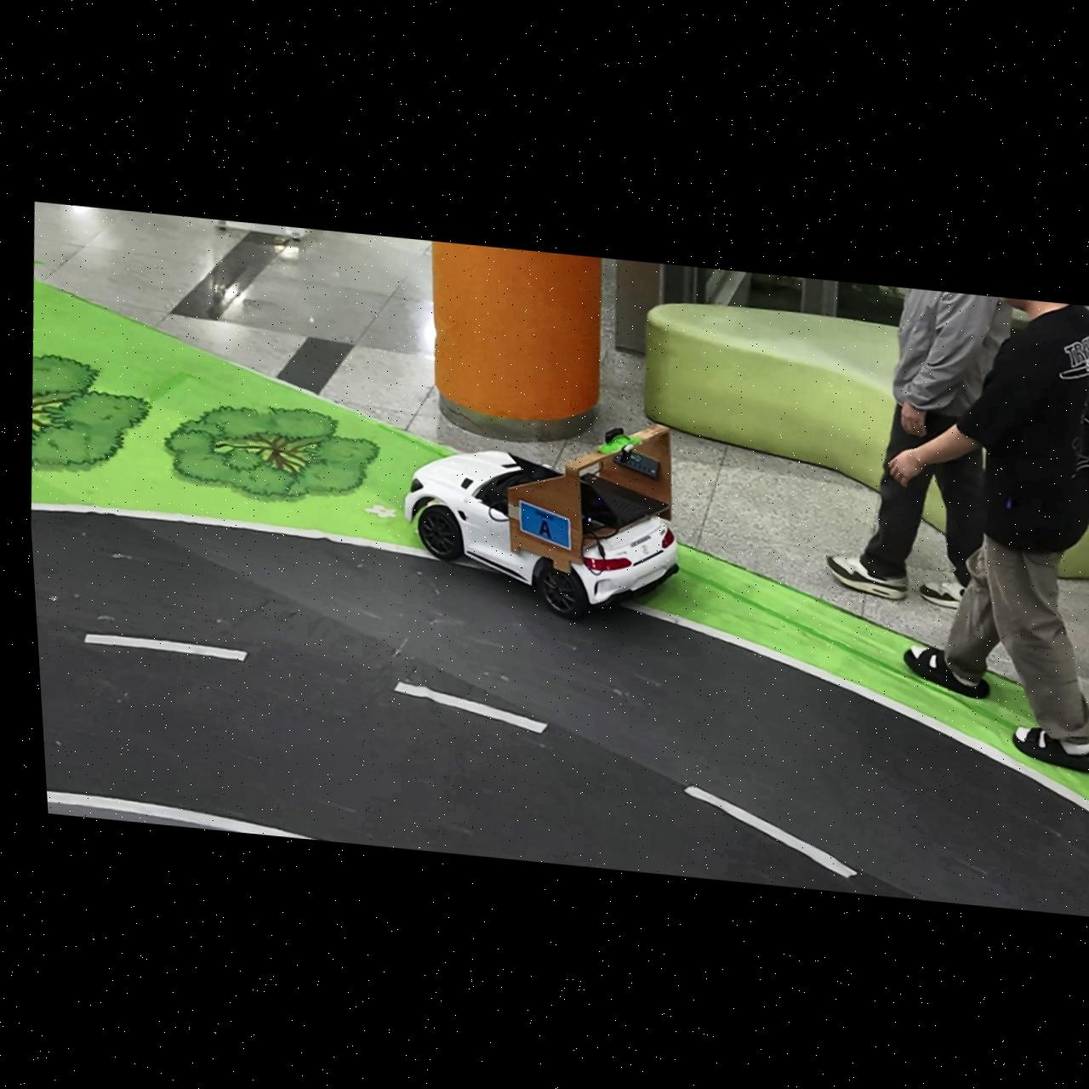broken_line: (685, 786, 857, 877), (394, 681, 546, 733), (84, 634, 249, 660)
